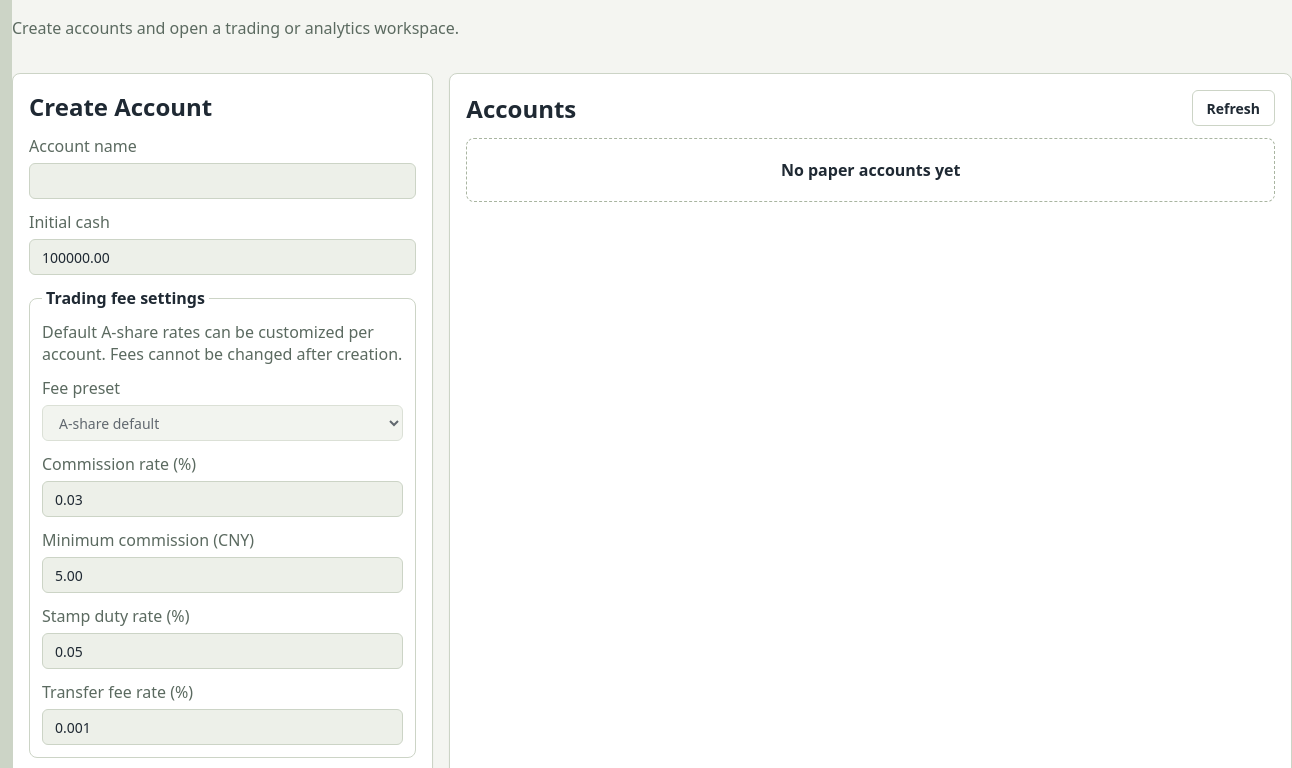
Test: AccountsPage › shows backend errors
The image size is (1292, 768).
In the field labelled "Account name": [223, 181] box [29, 163, 416, 199], type "demo"
(page scrolled)
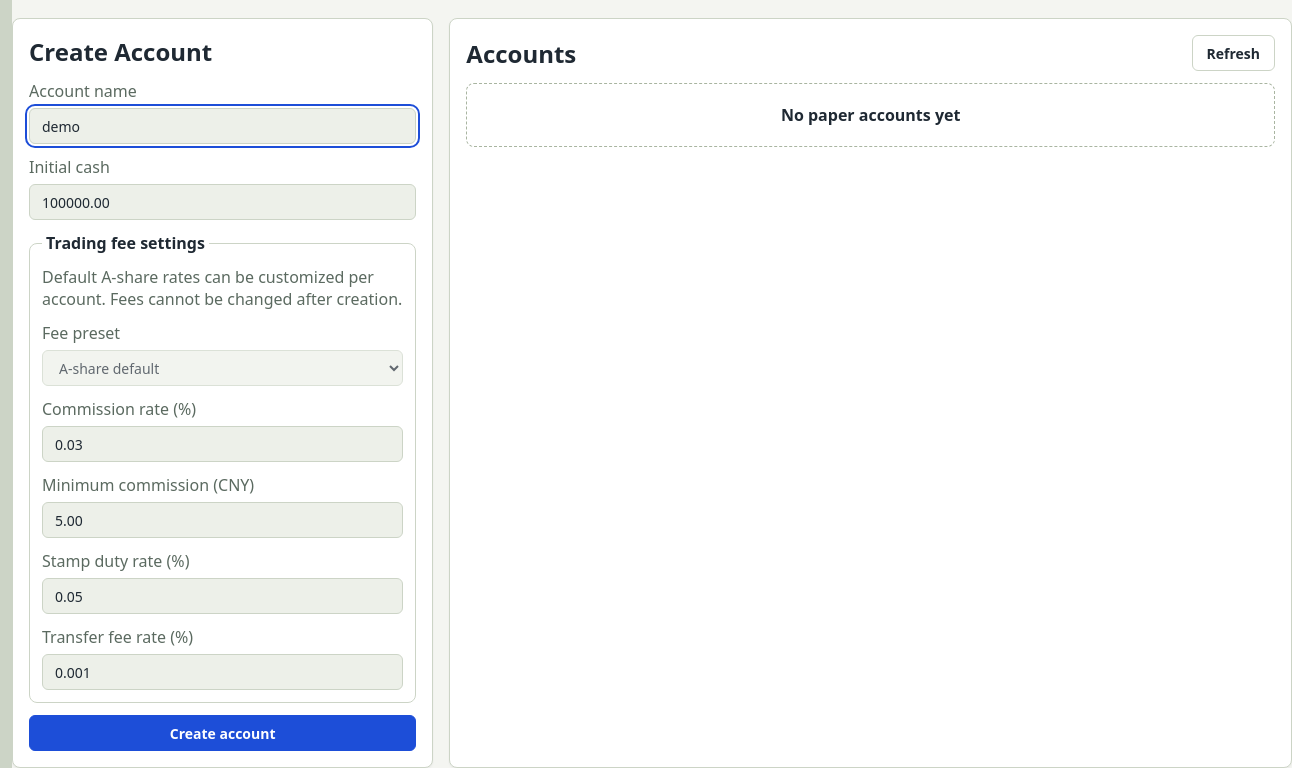
Click the button "Create account": [223, 733] box [29, 715, 416, 751]
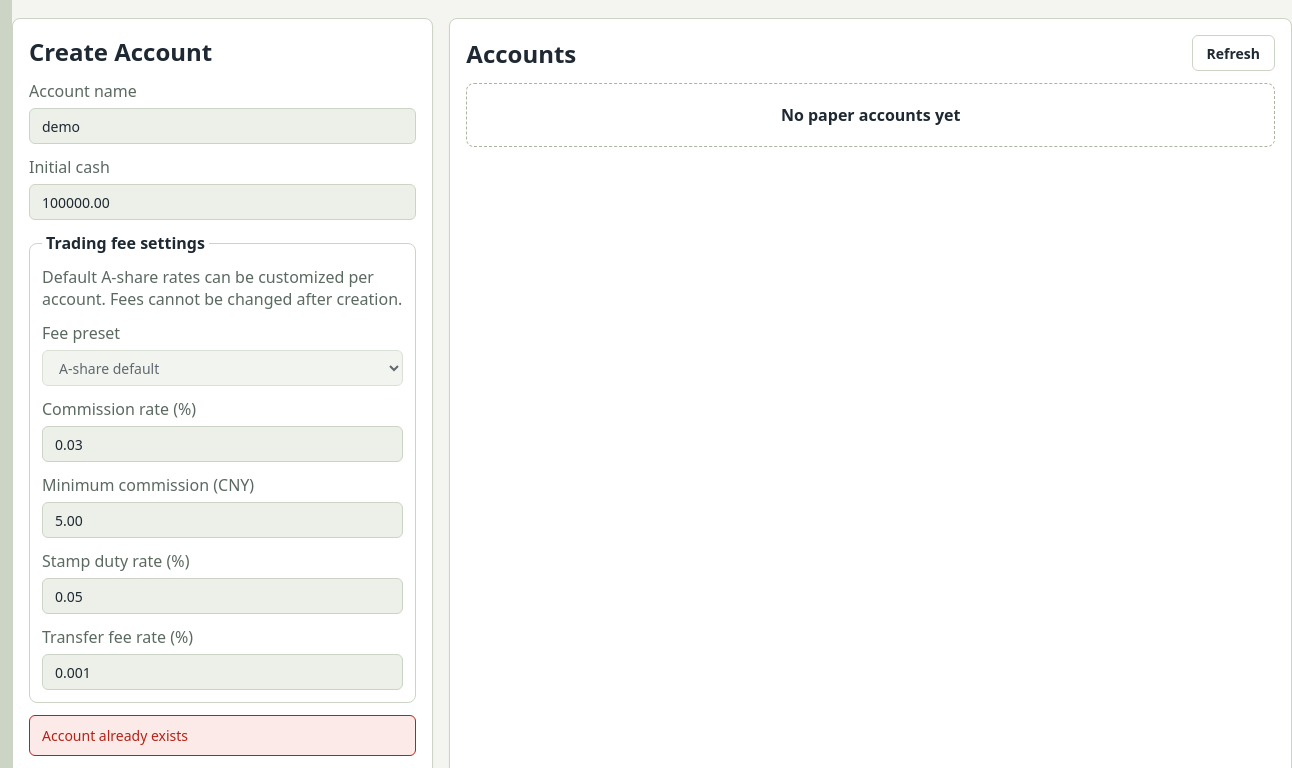
Expected: the message reads "Account already exists", [42, 726, 188, 745]
